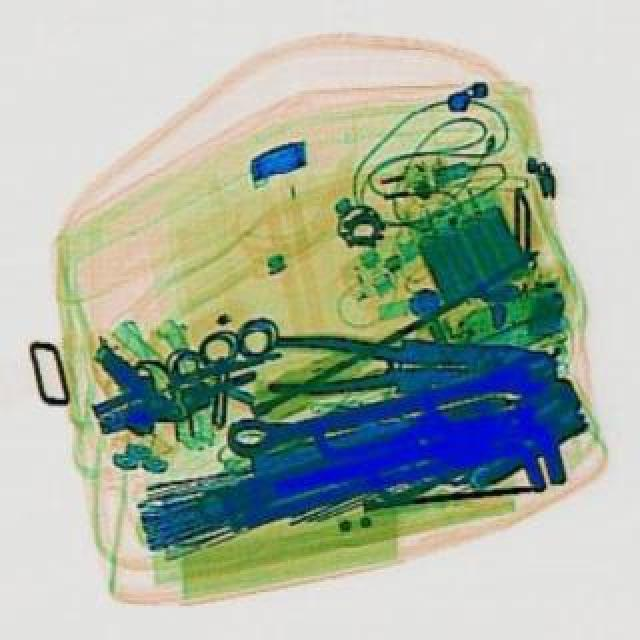scissors: (220, 350, 556, 458)
wrench: (266, 332, 554, 392)
